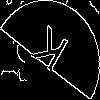K: (25, 24, 71, 81)
